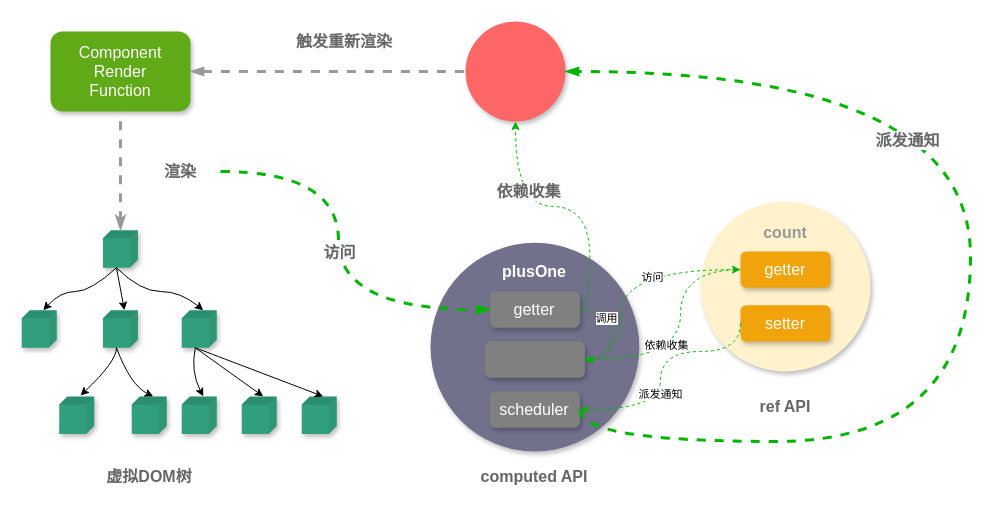
Image size: 989x515. Some labels were removed from this diagram. The shapes that lost their labels are listed below. From the top down, each one's centre as x and y in pixels, then its label:
At (516,72): "Render Effect".
At (535,360): "this.effect".
